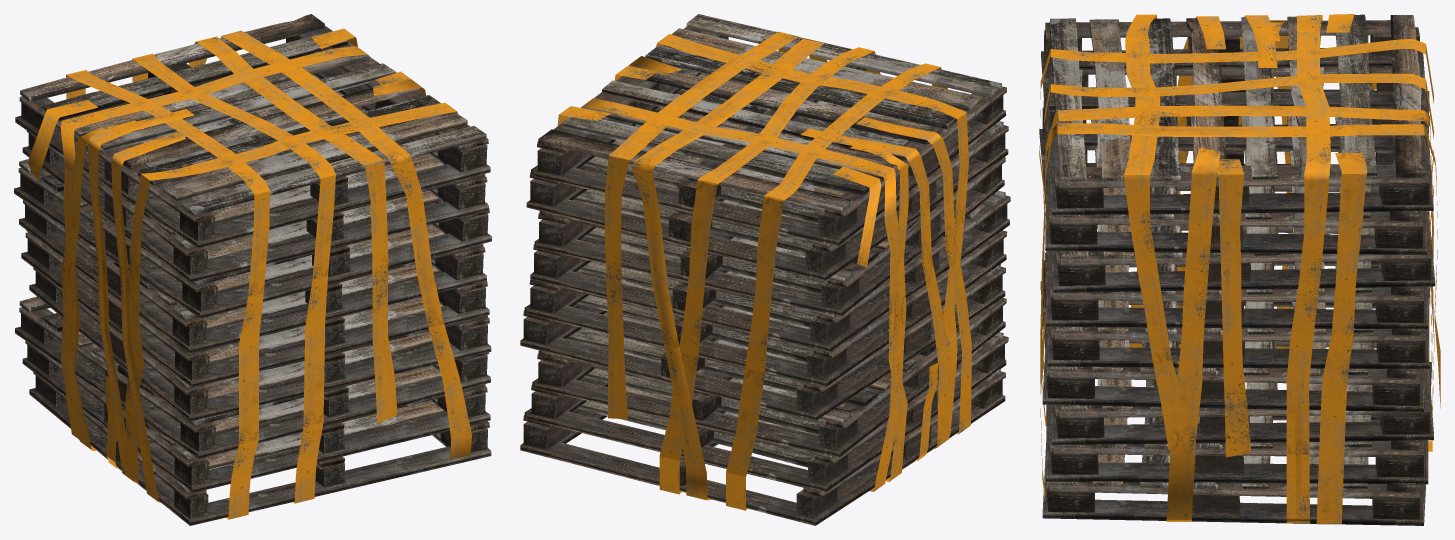
Rendered from sm26_037_woodbox01a.fbx.
3 renders of one model, left to right at view 1: azimuth 30°, elevation 25°; view 2: azimuth 150°, elevation 25°; view 3: azimuth 270°, elevation 25°, orthographic. The views are drawn at different scales.
Visible parts, largest first — view 1: LOD_1_Group_0_Sub_2__sm26_003_Palette01A_A_Mat, LOD_1_Group_0_Sub_1__sm26_024_VLongBox01A_A_Mat; view 2: LOD_1_Group_0_Sub_2__sm26_003_Palette01A_A_Mat, LOD_1_Group_0_Sub_1__sm26_024_VLongBox01A_A_Mat; view 3: LOD_1_Group_0_Sub_2__sm26_003_Palette01A_A_Mat, LOD_1_Group_0_Sub_1__sm26_024_VLongBox01A_A_Mat.
Boxes of the visible parts, bbox=[...] form: LOD_1_Group_0_Sub_2__sm26_003_Palette01A_A_Mat: bbox=[14, 14, 491, 525]; LOD_1_Group_0_Sub_1__sm26_024_VLongBox01A_A_Mat: bbox=[27, 28, 471, 519]; LOD_1_Group_0_Sub_2__sm26_003_Palette01A_A_Mat: bbox=[520, 14, 1010, 525]; LOD_1_Group_0_Sub_1__sm26_024_VLongBox01A_A_Mat: bbox=[557, 31, 971, 510]; LOD_1_Group_0_Sub_2__sm26_003_Palette01A_A_Mat: bbox=[1039, 14, 1435, 525]; LOD_1_Group_0_Sub_1__sm26_024_VLongBox01A_A_Mat: bbox=[1039, 14, 1440, 524].
Size of the model in its own units: 1.07 by 1.01 by 1.05.
